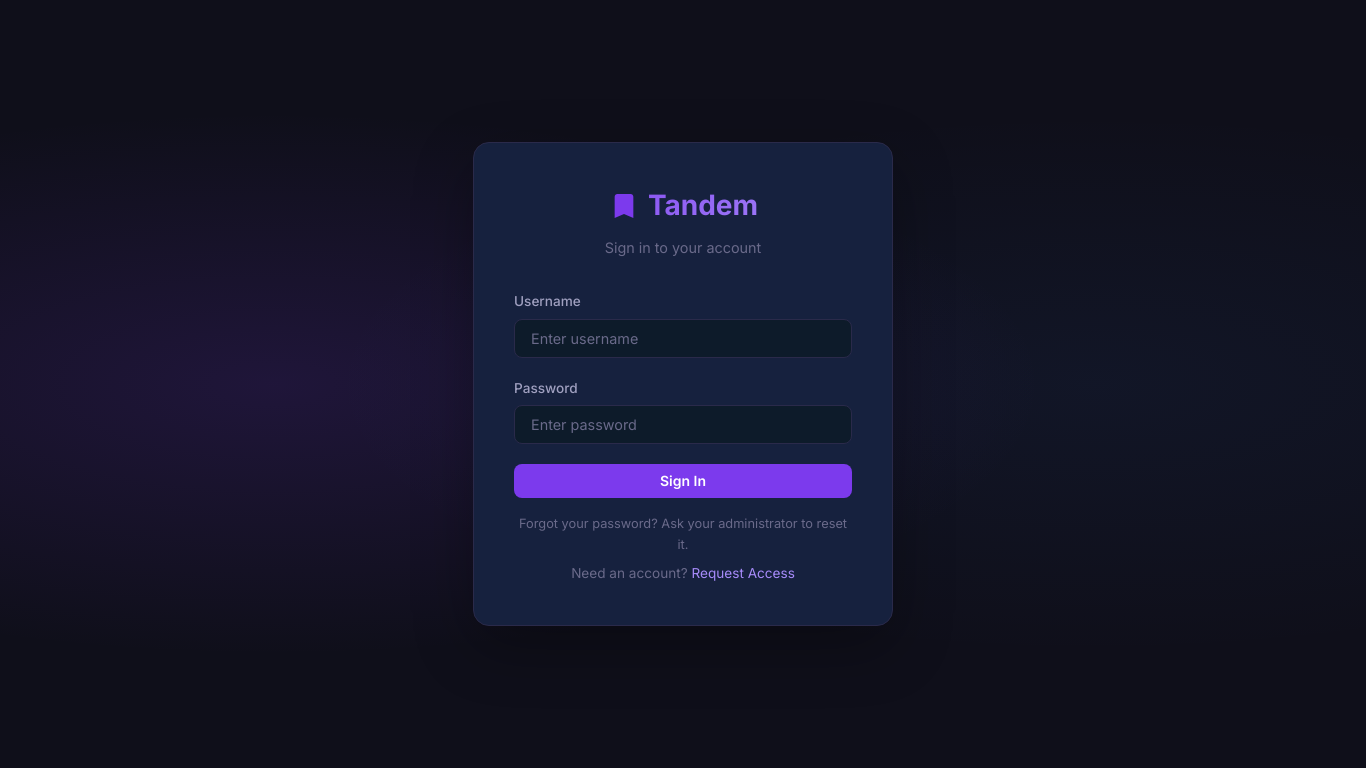
Test: LoginPage — invite mode › asks for an invite code, and requires it
Click the link "Request Access": point(743, 573) top-left (692, 565), bottom-right (795, 581)
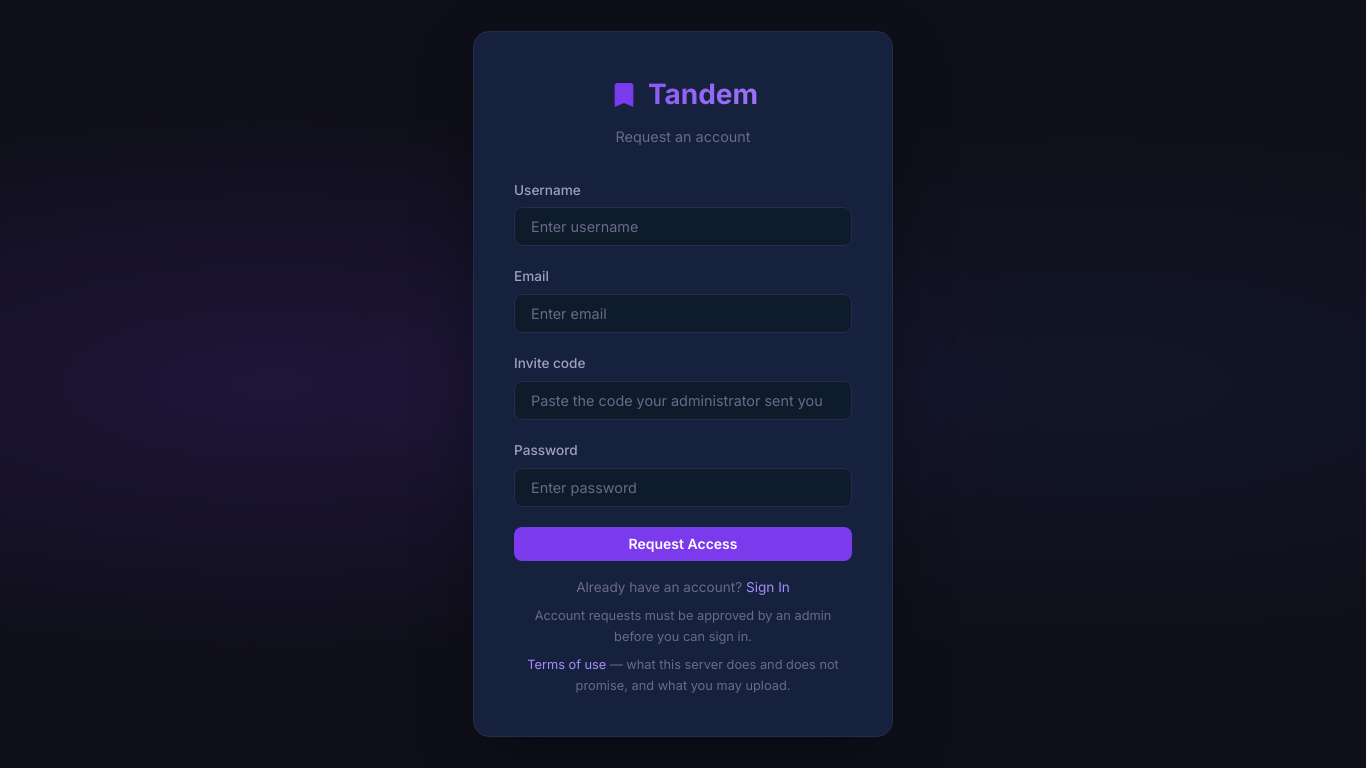
Check: the field labelled "Invite code" is shown, box top-left (514, 381), bottom-right (852, 420)
